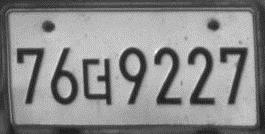2: (186, 45, 217, 106), (152, 44, 182, 106)
6: (48, 45, 79, 106)
7: (218, 46, 250, 105), (15, 46, 44, 105)
9: (118, 45, 148, 106)
더: (81, 57, 113, 106)
